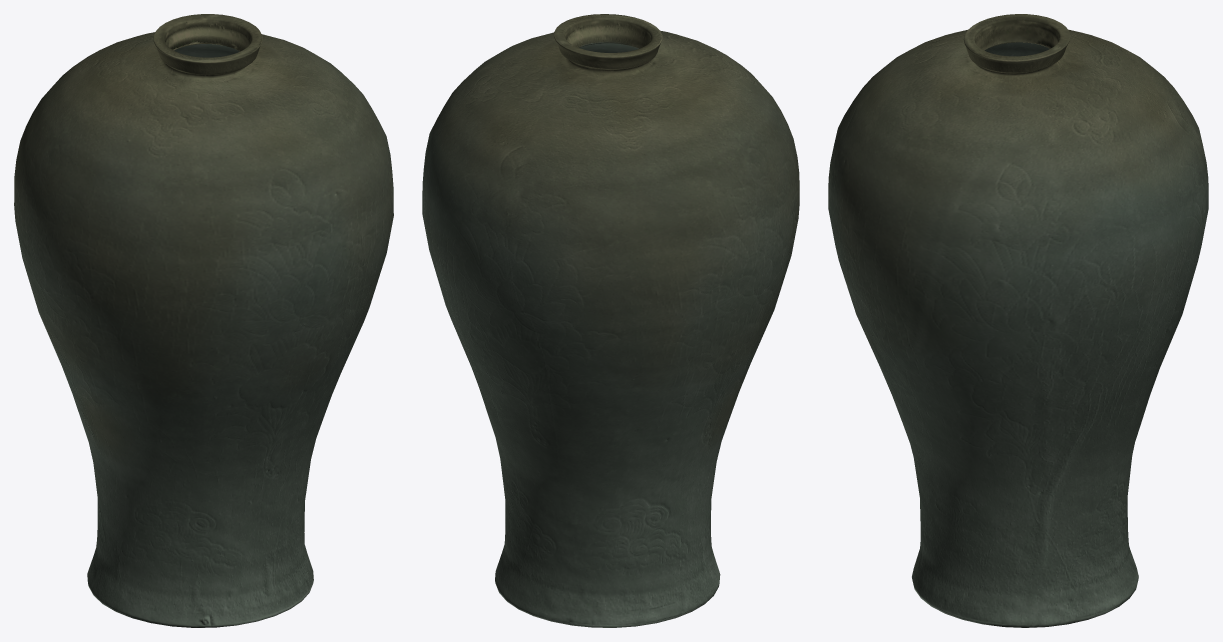
Rendered from celadon_porcelaina.glb.
The picture shows the model from 3 angles, left to right: view 1: azimuth 30°, elevation 25°; view 2: azimuth 150°, elevation 25°; view 3: azimuth 270°, elevation 25°; orthographic projection.
Parts seen in each view (by area): view 1: SM_Celadon_PorcelainA; view 2: SM_Celadon_PorcelainA; view 3: SM_Celadon_PorcelainA.
Part boxes in pixels (left/top/right/bottom): SM_Celadon_PorcelainA: left=14, top=14, right=393, bottom=627; SM_Celadon_PorcelainA: left=422, top=14, right=799, bottom=627; SM_Celadon_PorcelainA: left=828, top=14, right=1208, bottom=627.
Bounding box in the file's own units: 0.2431 × 0.3859 × 0.2431.
1 material, 1 textured.
